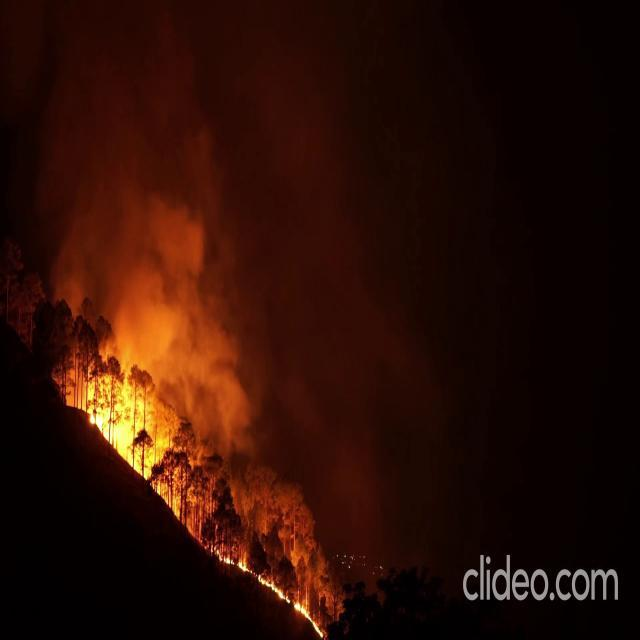Fire: (82, 381, 144, 482), (303, 599, 326, 640), (267, 578, 294, 612)
Smoke: (17, 6, 414, 506)
